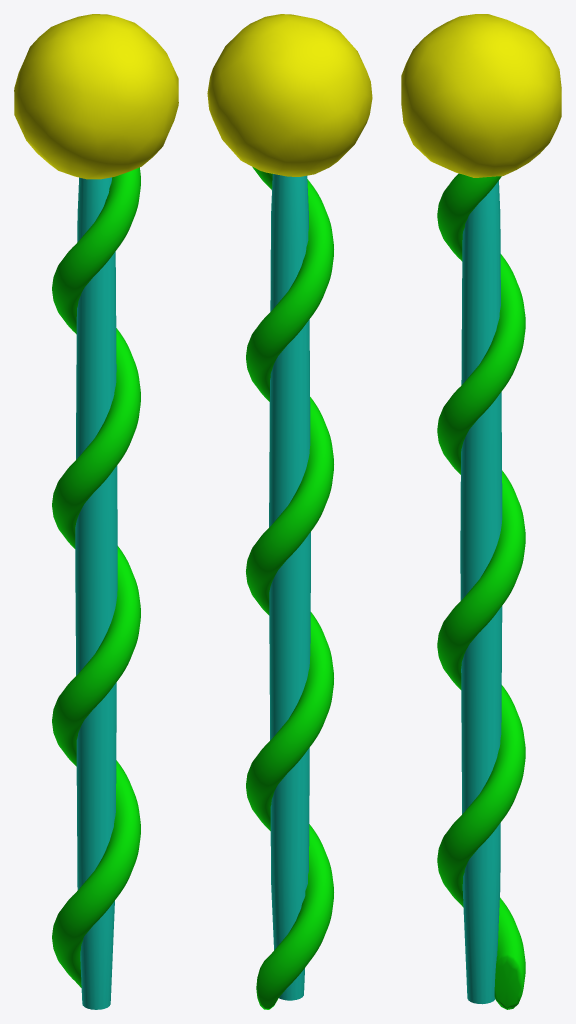
Rendered from Staff_Of_Jungles_Final.fbx.
3 renders of one model, left to right at view 1: azimuth 30°, elevation 25°; view 2: azimuth 150°, elevation 25°; view 3: azimuth 270°, elevation 25°, orthographic.
Visible parts, largest first — view 1: polySurface1; view 2: polySurface1; view 3: polySurface1.
Part boxes in pixels (x1,y1,x2,y2): polySurface1: (14,14,178,1009); polySurface1: (207,14,372,1009); polySurface1: (401,14,561,1009).
Bounding box in the file's own units: 0.9812 × 6.47 × 0.957.
